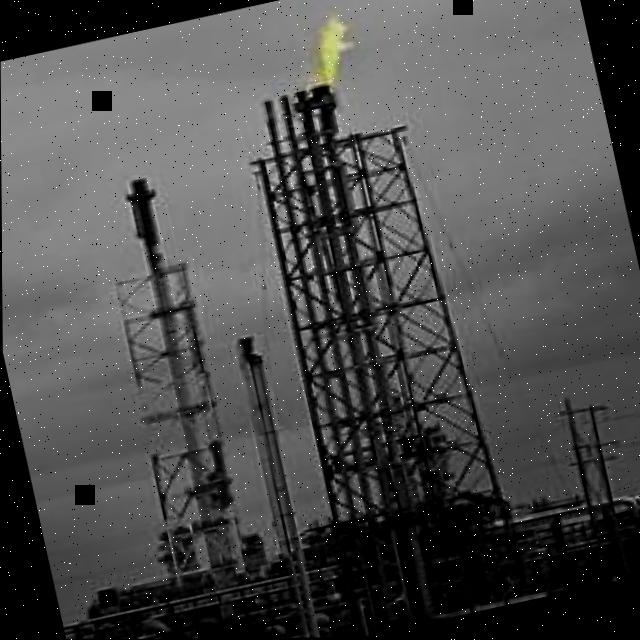fire: (318, 17, 353, 85)
